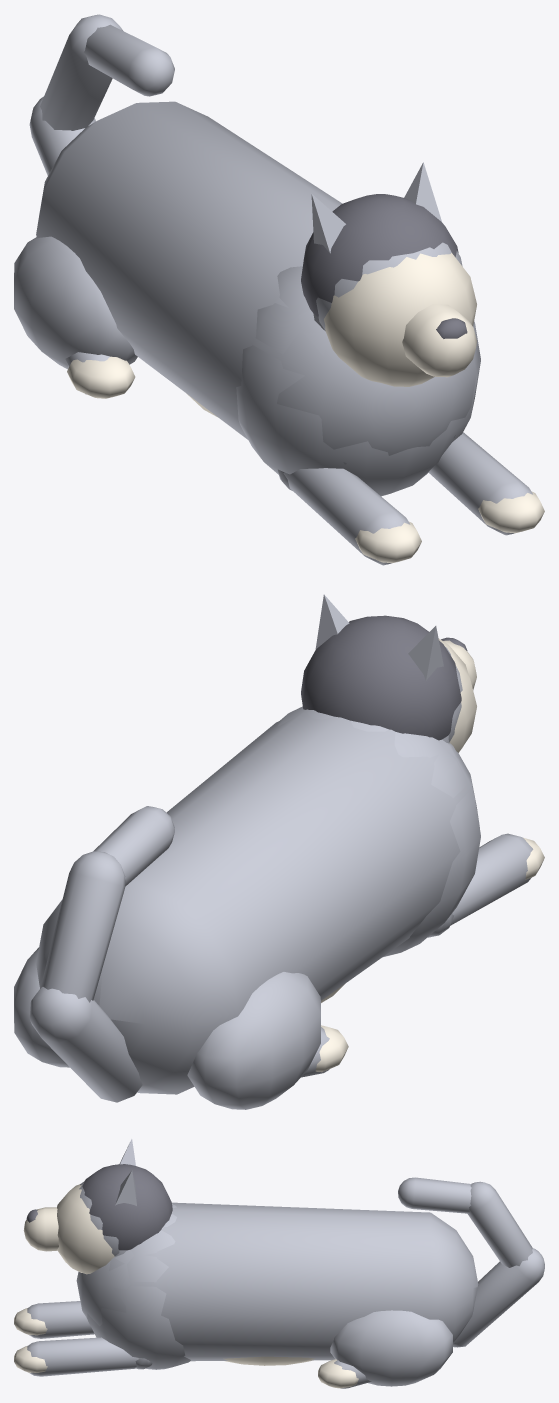
Rendered from companion-animals-and-pet-home-dog-husky-lie-024c2bee__20597.glb.
3 views of the same model, one above another, from view 1: azimuth 30°, elevation 25°; view 2: azimuth 150°, elevation 25°; view 3: azimuth 270°, elevation 25° (orthographic). The views are drawn at different scales.
Visible parts, largest first — view 1: dog-husky-lie; view 2: dog-husky-lie; view 3: dog-husky-lie.
Boxes of the visible parts, x1,y1,x2,y2 form: dog-husky-lie: (14,14,544,565); dog-husky-lie: (14,594,544,1109); dog-husky-lie: (14,1139,544,1388).
Bounding box in the file's own units: 0.3745 × 0.4356 × 1.01.
